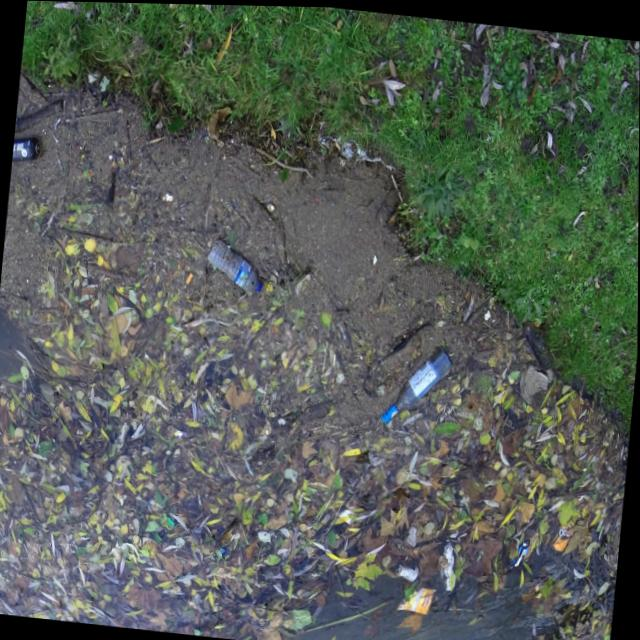Bottle-Glass: (376, 335, 460, 432)
Can-Metal: (11, 123, 45, 174), (391, 557, 422, 584)
Plastic: (196, 233, 274, 301), (547, 486, 599, 554), (395, 574, 443, 619), (437, 529, 463, 593), (504, 527, 536, 571)
